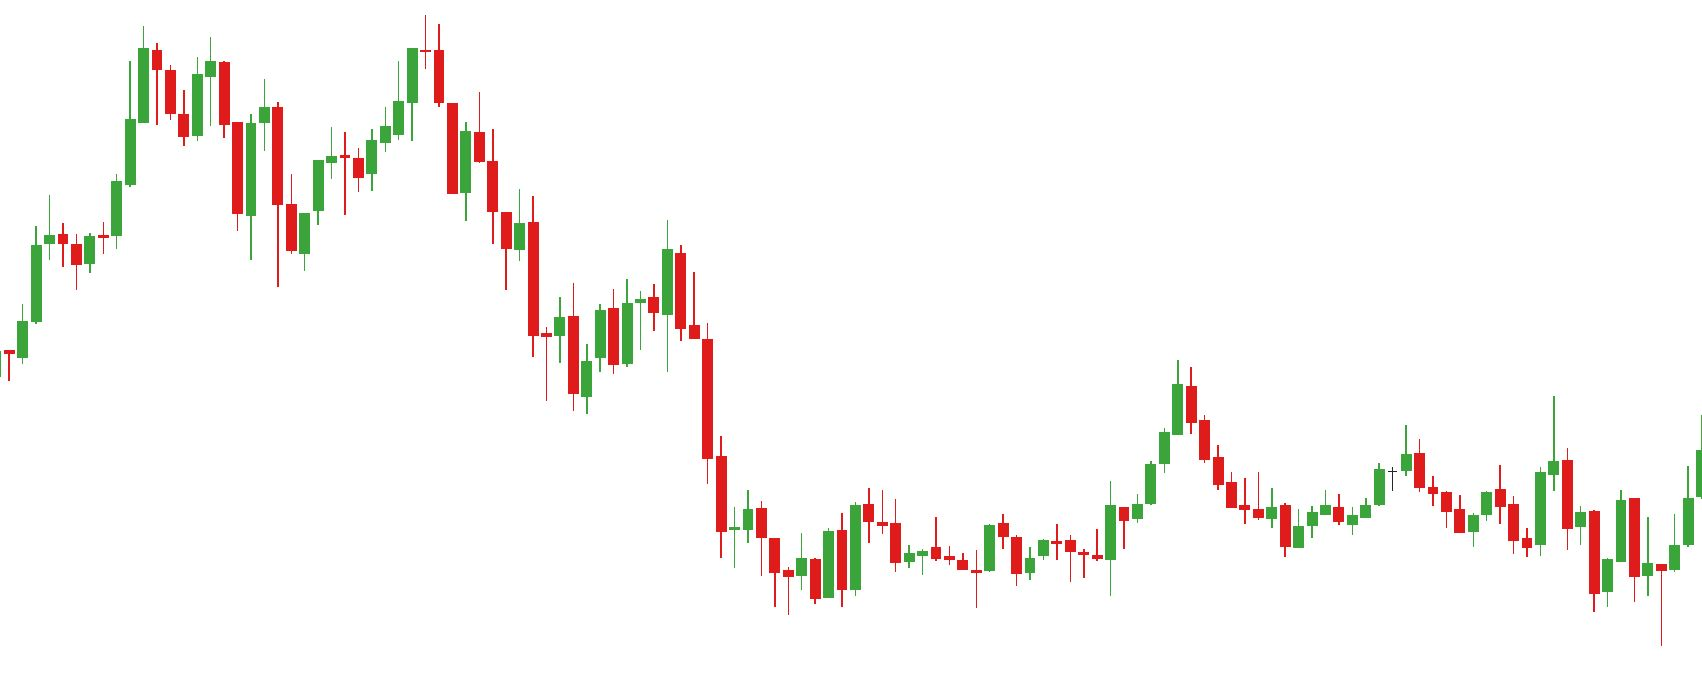sell: (203, 14, 432, 153), (1401, 393, 1561, 526)
